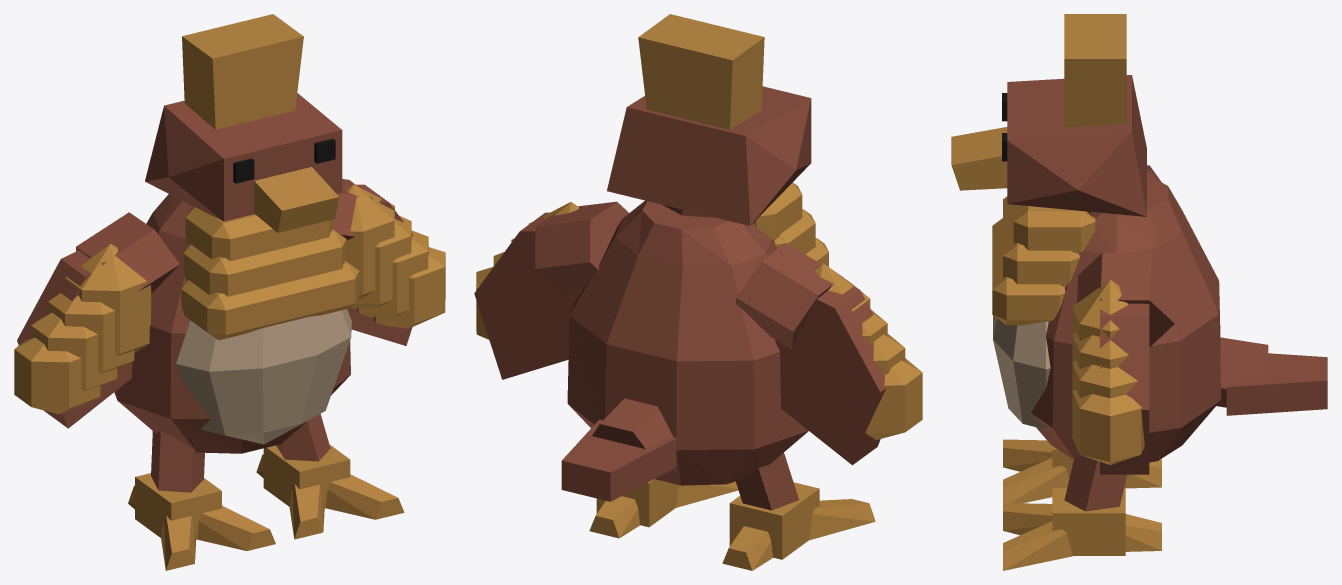
Rendered from fluefrill.glb.
3 renders of one model, left to right at view 1: azimuth 30°, elevation 25°; view 2: azimuth 150°, elevation 25°; view 3: azimuth 270°, elevation 25°, orthographic. The views are drawn at different scales.
Visible parts, largest first — view 1: Fluefrill; view 2: Fluefrill; view 3: Fluefrill.
Part boxes in pixels (box(x1,y1,x2,y2)): Fluefrill: box(14, 14, 445, 570); Fluefrill: box(474, 14, 922, 570); Fluefrill: box(951, 14, 1327, 570).
Size of the model in its own units: 0.92 by 0.98 by 0.7.
